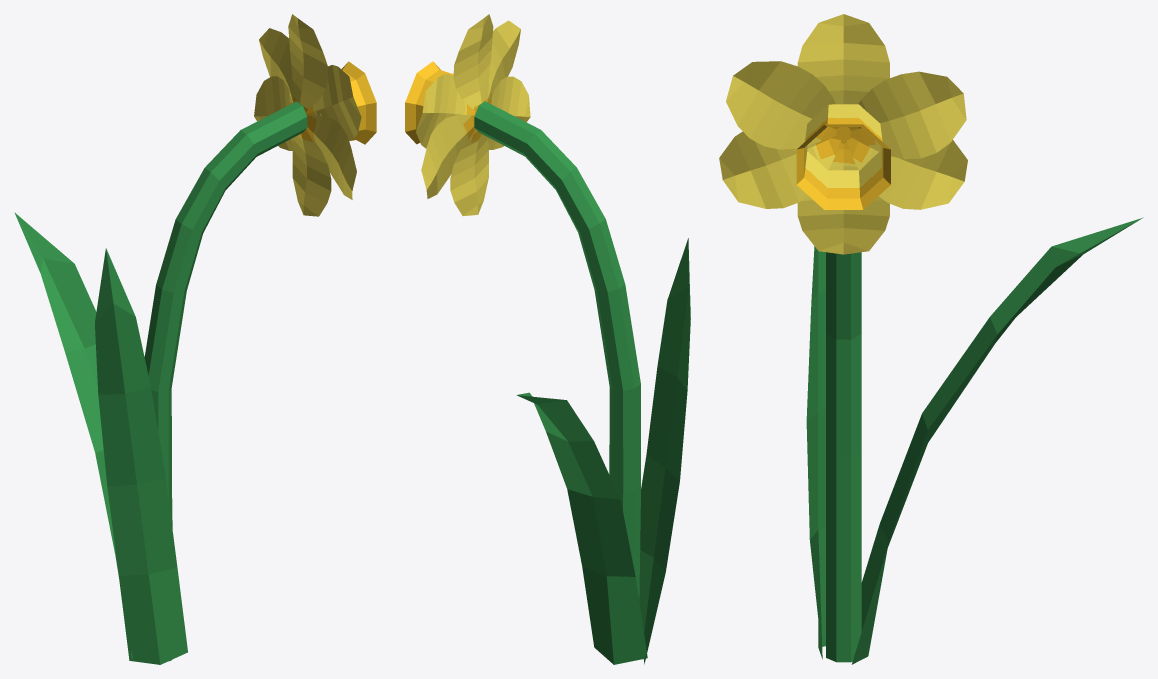
3 views of the same model, side by side, from view 1: azimuth 30°, elevation 25°; view 2: azimuth 150°, elevation 25°; view 3: azimuth 270°, elevation 25° (orthographic). The views are drawn at different scales.
Visible parts, largest first — view 1: plane (×8), cylinder, tube; view 2: plane (×8), cylinder, tube; view 3: plane (×8), cylinder, tube.
Boxes of the visible parts, x1,y1,x2,y2 form: plane (×8): (14,14,361,664); cylinder: (144,101,307,661); tube: (290,61,376,144); plane (×8): (416,14,690,664); cylinder: (474,101,640,599); tube: (405,61,491,144); plane (×8): (719,14,1143,664); cylinder: (826,127,861,662); tube: (796,104,890,209).
Size of the model in its own units: 0.6436 by 1.41 by 0.7499.
Materials: 1 (1 with a texture image).
